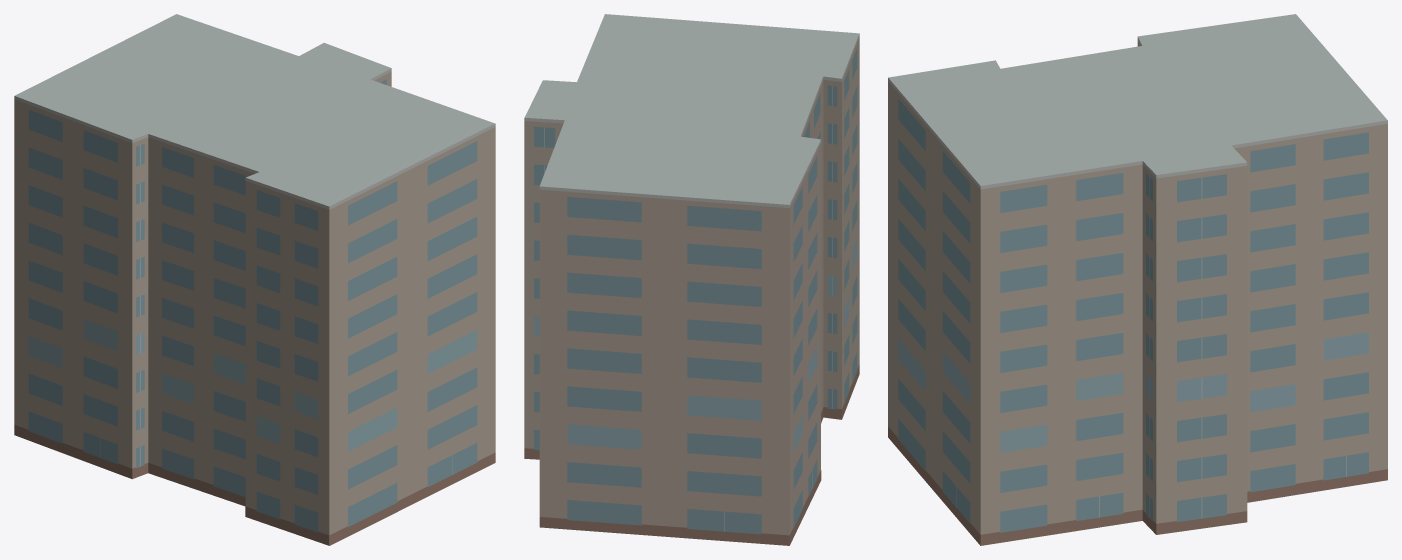
File: survey-upis-32865645.glb
The picture shows the model from 3 angles, left to right: view 1: azimuth 30°, elevation 25°; view 2: azimuth 150°, elevation 25°; view 3: azimuth 270°, elevation 25°; orthographic projection. The views are drawn at different scales.
Visible parts, largest first — view 1: survey-upis-32865645.tmp; view 2: survey-upis-32865645.tmp; view 3: survey-upis-32865645.tmp.
Boxes of the visible parts, box(x1,y1,x2,y2) form: survey-upis-32865645.tmp: box(14, 14, 495, 545); survey-upis-32865645.tmp: box(524, 14, 859, 545); survey-upis-32865645.tmp: box(888, 14, 1387, 545).
Bounding box in the file's own units: 26.16 × 25.5 × 32.1.
